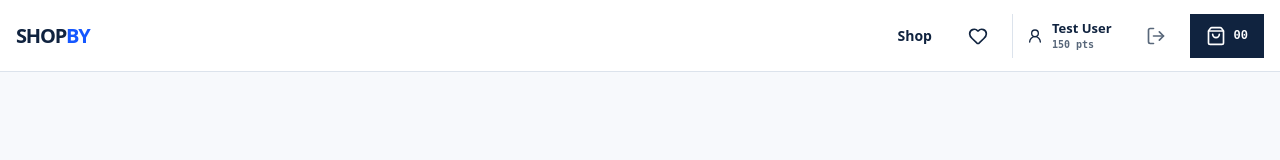
Test: Navbar authentication controls › logs out and clears the in-memory authentication state
Expected: the text "Test User" is shown, left=1052, top=21, right=1112, bottom=36
Expected: the text "150 pts" is shown, left=1052, top=39, right=1094, bottom=50
What coordinates should you click on to do the following:
click the button named "Log Out"
I would click on:
 (1156, 36)
Its box is left=1134, top=14, right=1178, bottom=58.
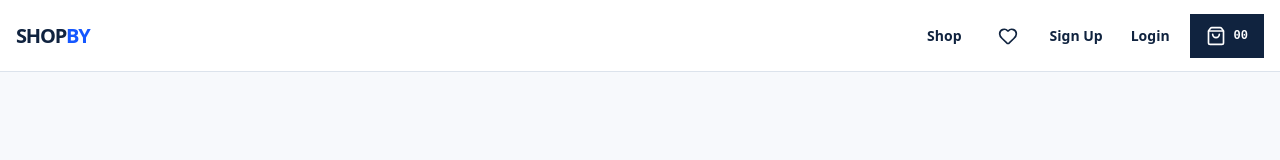
Expected: the link "Login" is shown, left=1131, top=26, right=1170, bottom=44
